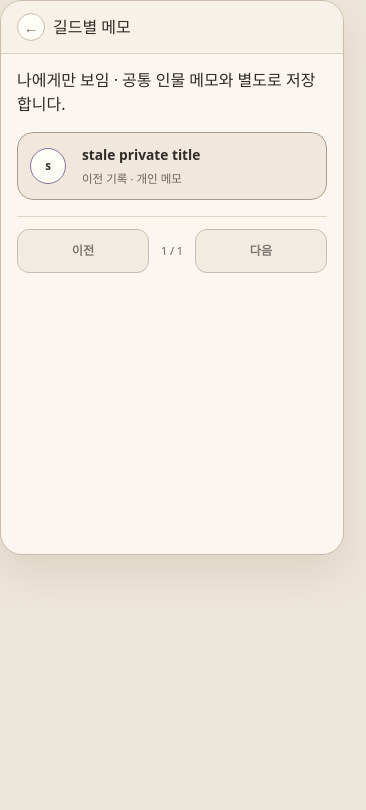
Scenario: shows the stored history label when the API still authorizes the Guild name
Step 1. Click the button "s stale private title 이전 기록 · 개인 메모" → (172, 166), box [17,132,327,200]
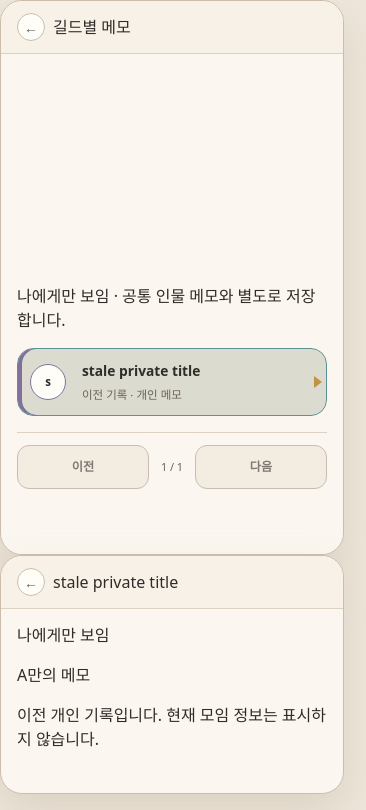
Expected: the text "A만의 메모" is shown, [17,664,90,686]
